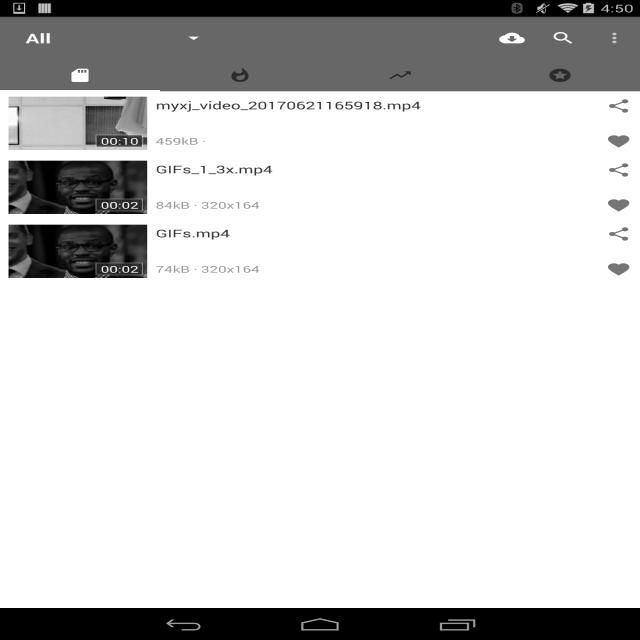ImageView: (9, 97, 147, 150), (9, 161, 147, 214), (9, 225, 147, 278), (589, 22, 640, 54), (580, 96, 632, 125), (580, 160, 632, 188), (580, 123, 632, 150), (580, 187, 632, 214), (580, 225, 632, 252), (580, 251, 632, 278), (50, 68, 110, 84), (210, 68, 270, 84), (370, 68, 430, 84), (530, 68, 590, 84), (181, 29, 206, 47)
Spinner: (26, 29, 180, 47)
TextView: (156, 98, 421, 112), (487, 22, 538, 54), (156, 162, 272, 176), (538, 22, 588, 54), (156, 199, 260, 211), (156, 263, 260, 275), (156, 226, 230, 240), (26, 29, 68, 47), (156, 135, 210, 147), (95, 135, 143, 147), (95, 199, 143, 211), (95, 263, 143, 275)
